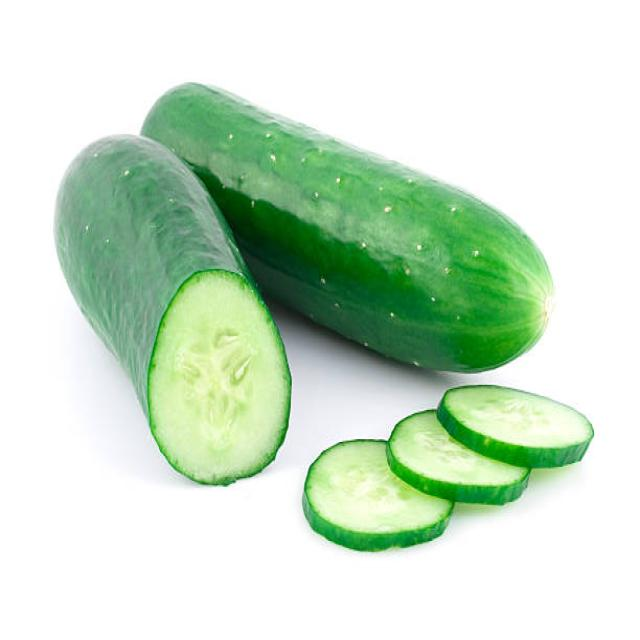cucumber: (138, 81, 556, 372), (53, 130, 291, 488)
